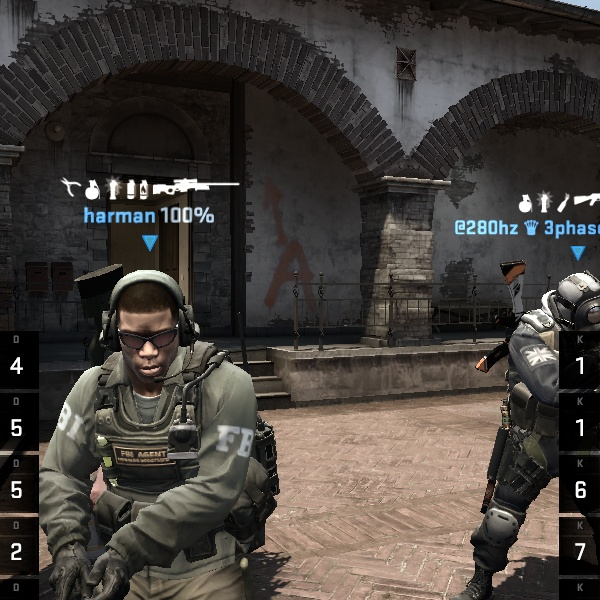ct_body: (11, 268, 298, 598), (480, 259, 598, 598)
ct_head: (85, 265, 212, 390), (543, 263, 599, 342)
